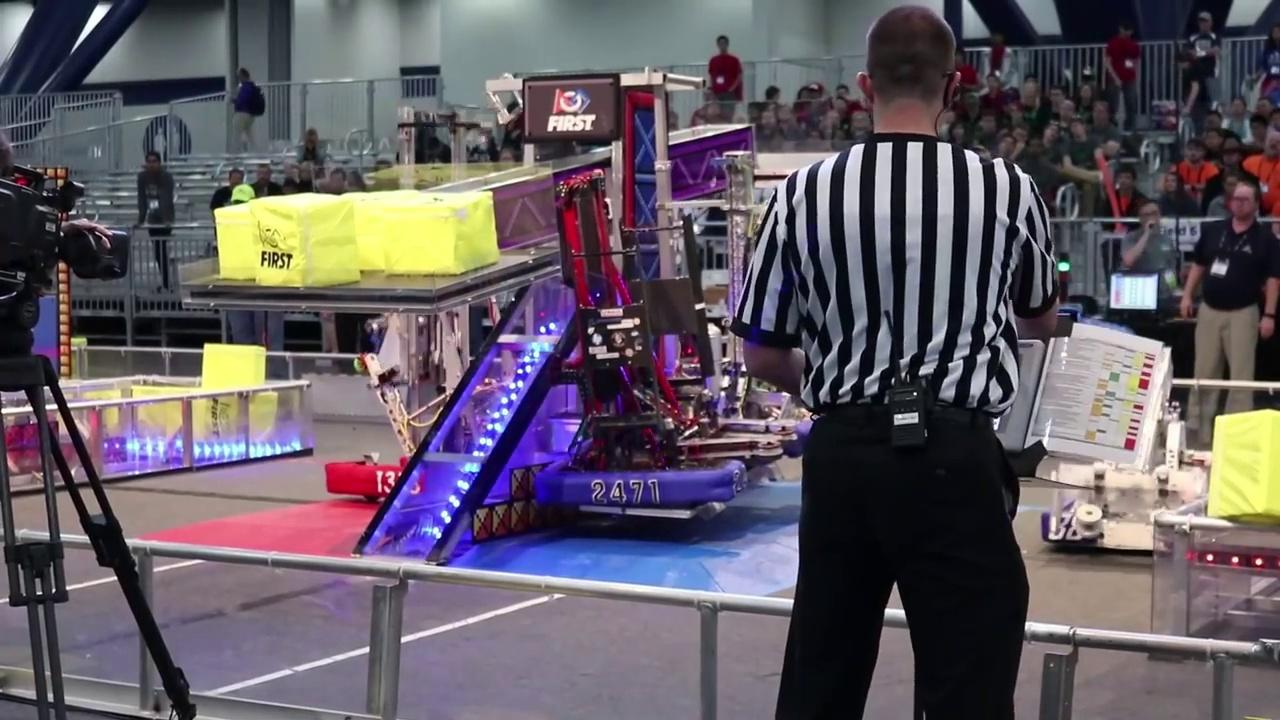robot: (525, 174, 784, 512), (320, 315, 445, 502)
